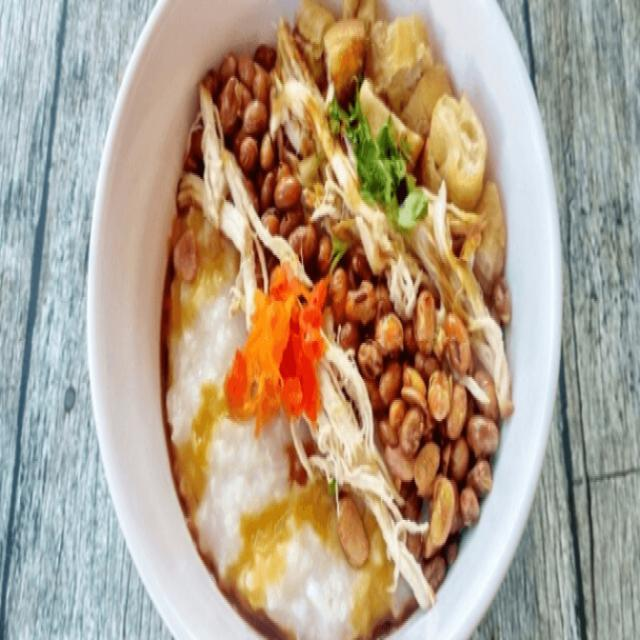bubur ayam: (154, 0, 514, 638)
mangkuk: (84, 0, 563, 640)
sambal: (228, 258, 326, 436)
